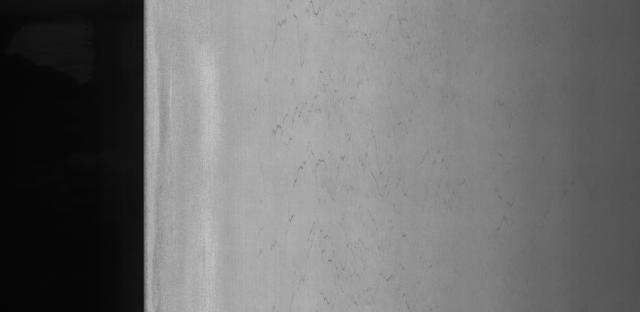silk_spot: (257, 2, 433, 297)
